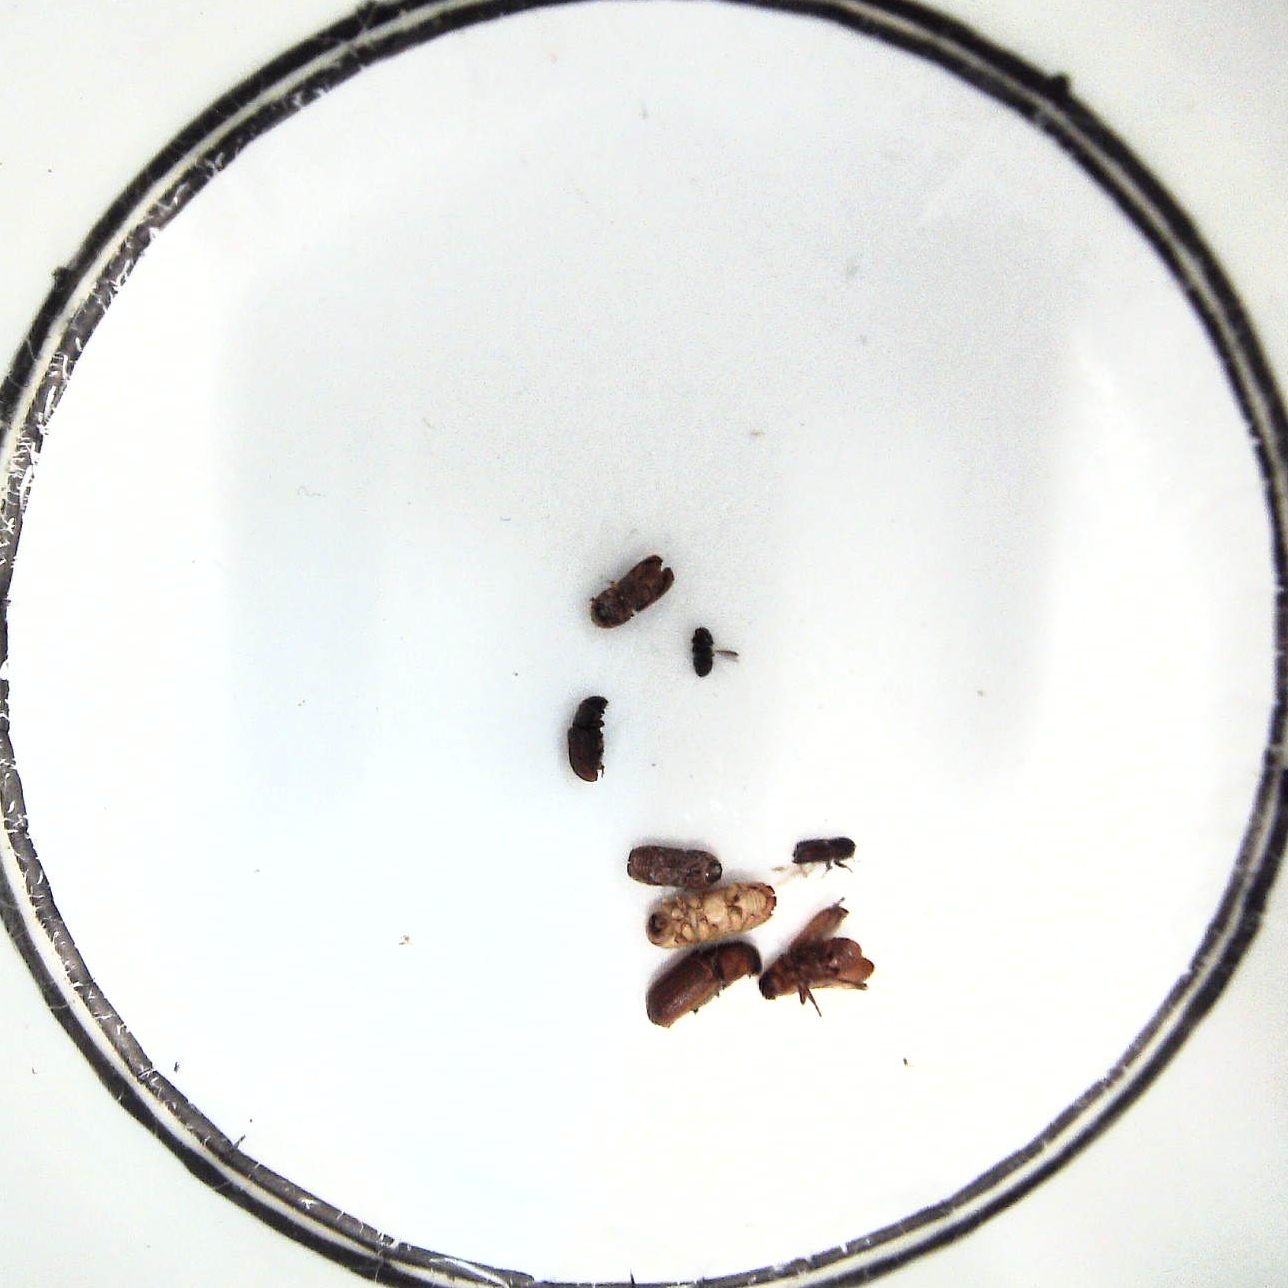Boerner: (646, 882, 782, 947)
Leconte: (760, 905, 872, 1008), (646, 938, 765, 1029)
Linnaeus: (587, 551, 677, 633), (627, 841, 727, 891)
acuminatus: (789, 832, 859, 874)
armandi: (561, 690, 615, 784)
coleoptera: (690, 626, 719, 677)
